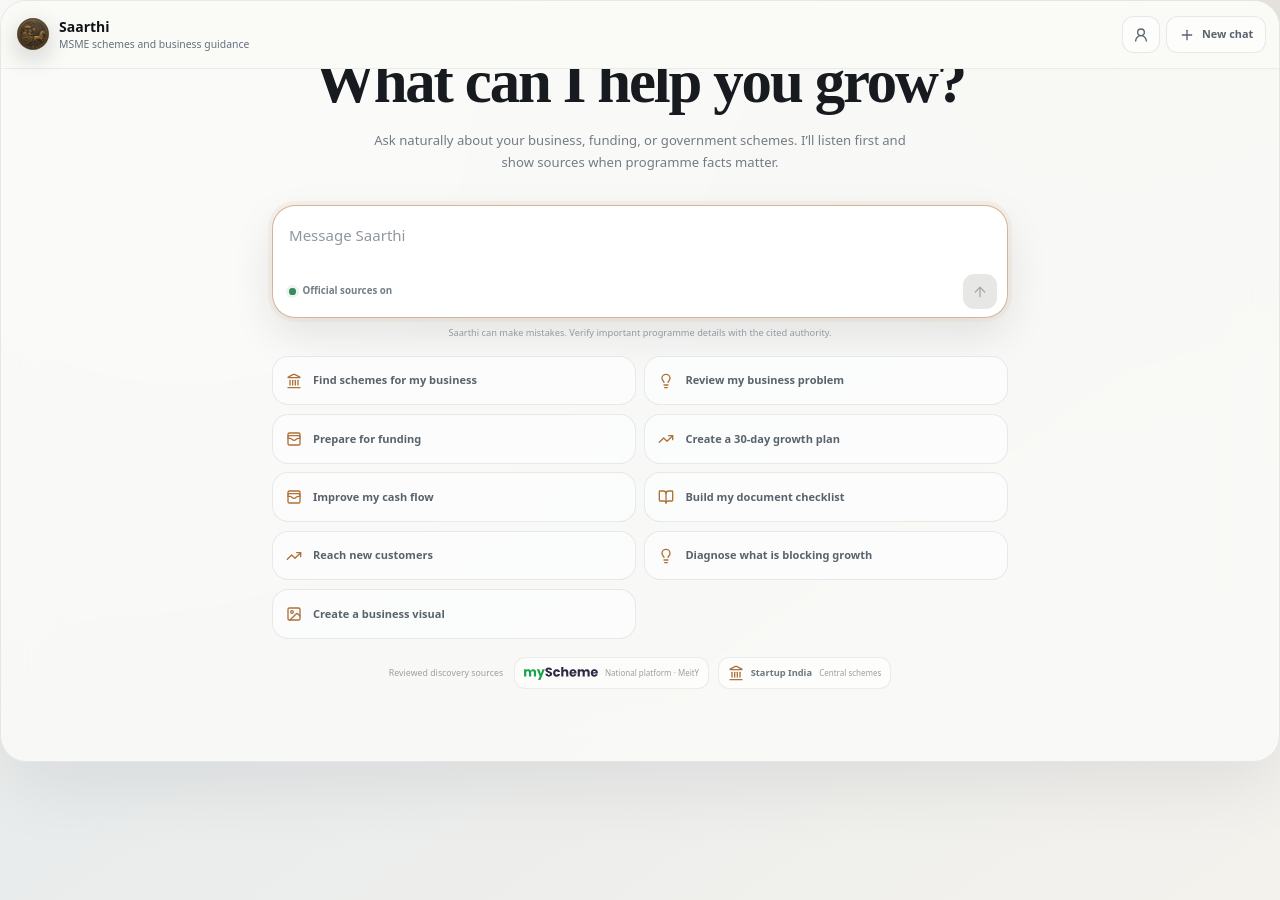
Test: Saarthi advisor workspace › clears persisted messages and restores the starter prompts
(page scrolled)
Type "Start a temporary chat." into the text box labelled "Message Saarthi" at (643, 245), box [289,215,997,274]
Then press Enter
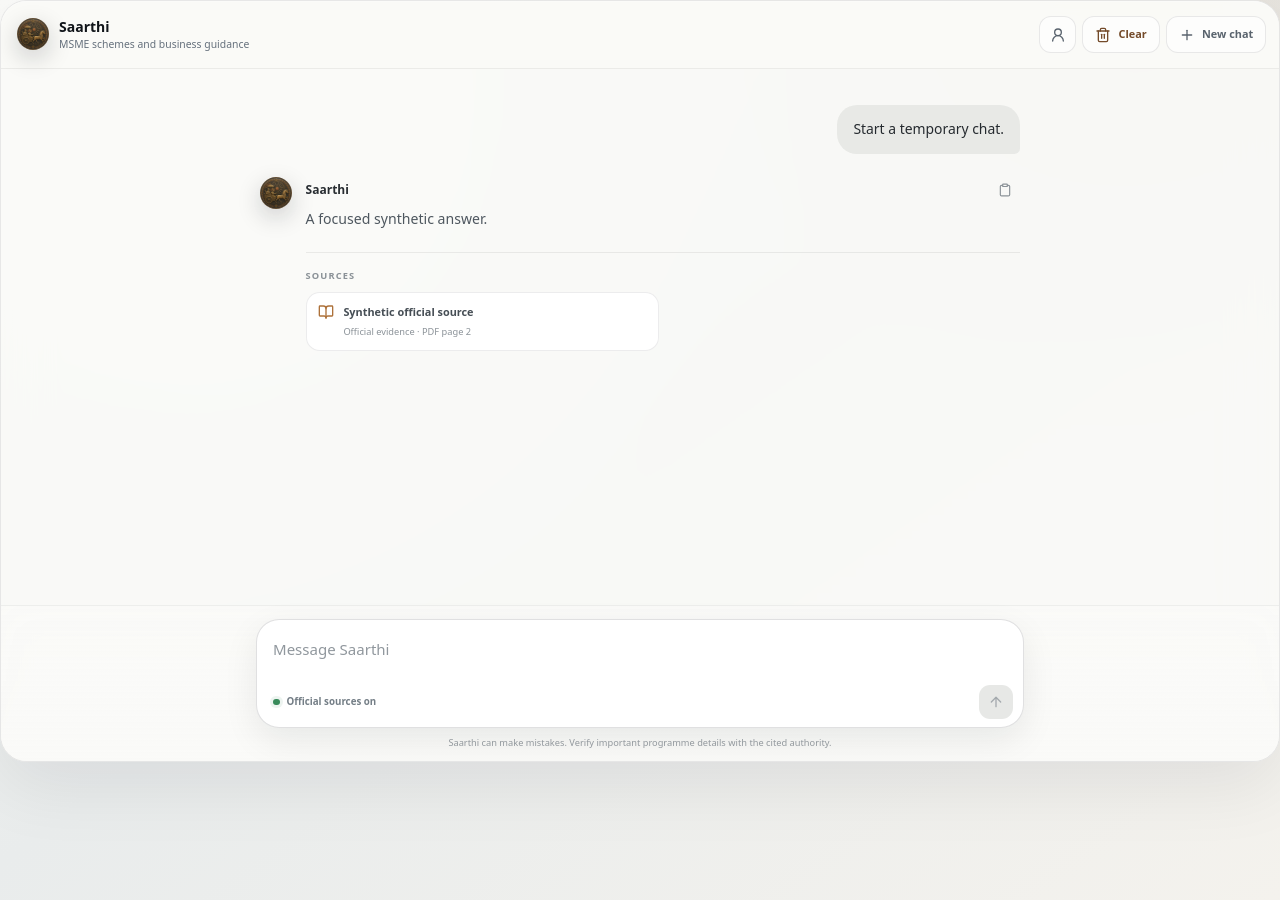
Expected: the text "A focused synthetic answer." is shown, [306,208,487,228]
Click the button with aria-label "Clear conversation" at (1121, 34), box [1082,16,1160,53]
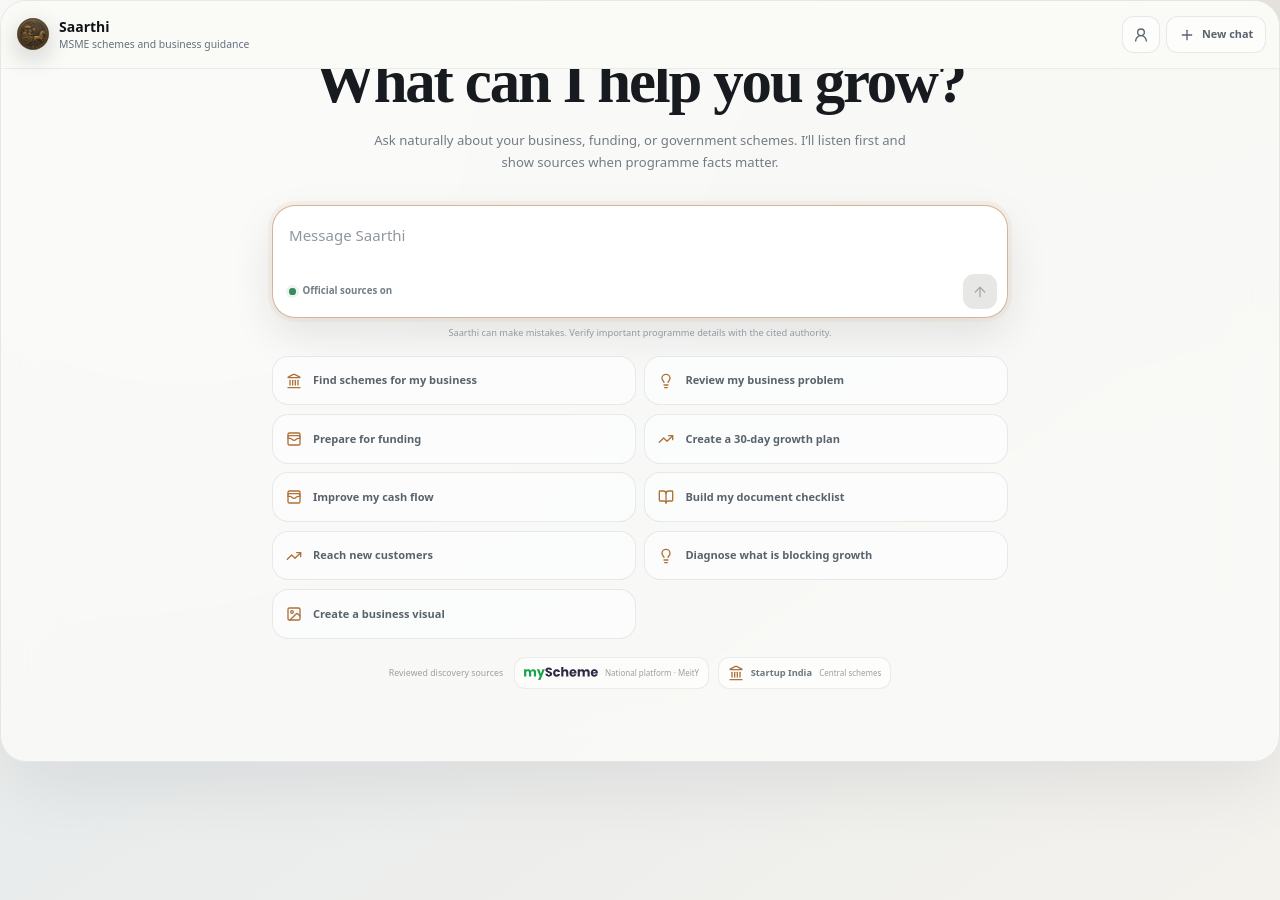
Expected: the heading "What can I help you grow?" is shown, [315,69,965,113]
Expected: the button "Find schemes for my business" is shown, [272,356,636,405]
